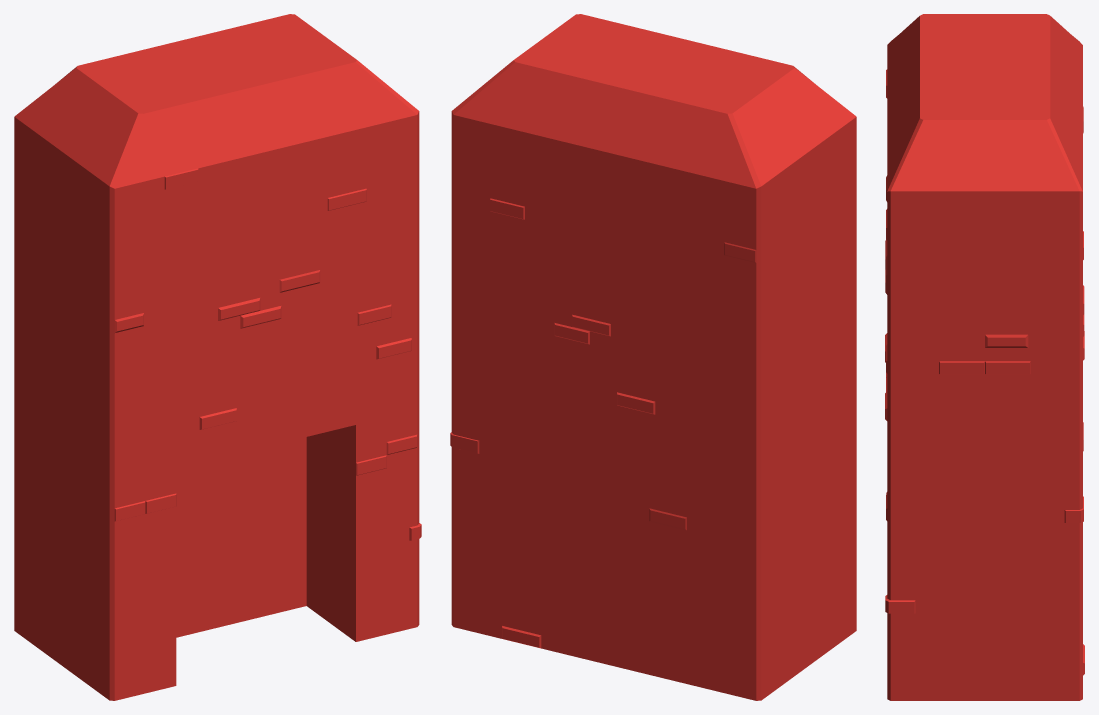
Rendered from SM_Fireplace_Brick_Large.fbx.
3 views of the same model, side by side, from view 1: azimuth 30°, elevation 25°; view 2: azimuth 150°, elevation 25°; view 3: azimuth 270°, elevation 25° (orthographic).
Visible parts, largest first — view 1: fireplace-brick-large; view 2: fireplace-brick-large; view 3: fireplace-brick-large.
Part boxes in pixels (left/top/right/bottom): fireplace-brick-large: left=14, top=14, right=421, bottom=700; fireplace-brick-large: left=450, top=14, right=856, bottom=700; fireplace-brick-large: left=885, top=14, right=1084, bottom=700.
Size of the model in its own units: 1.73 by 3 by 0.9714.
